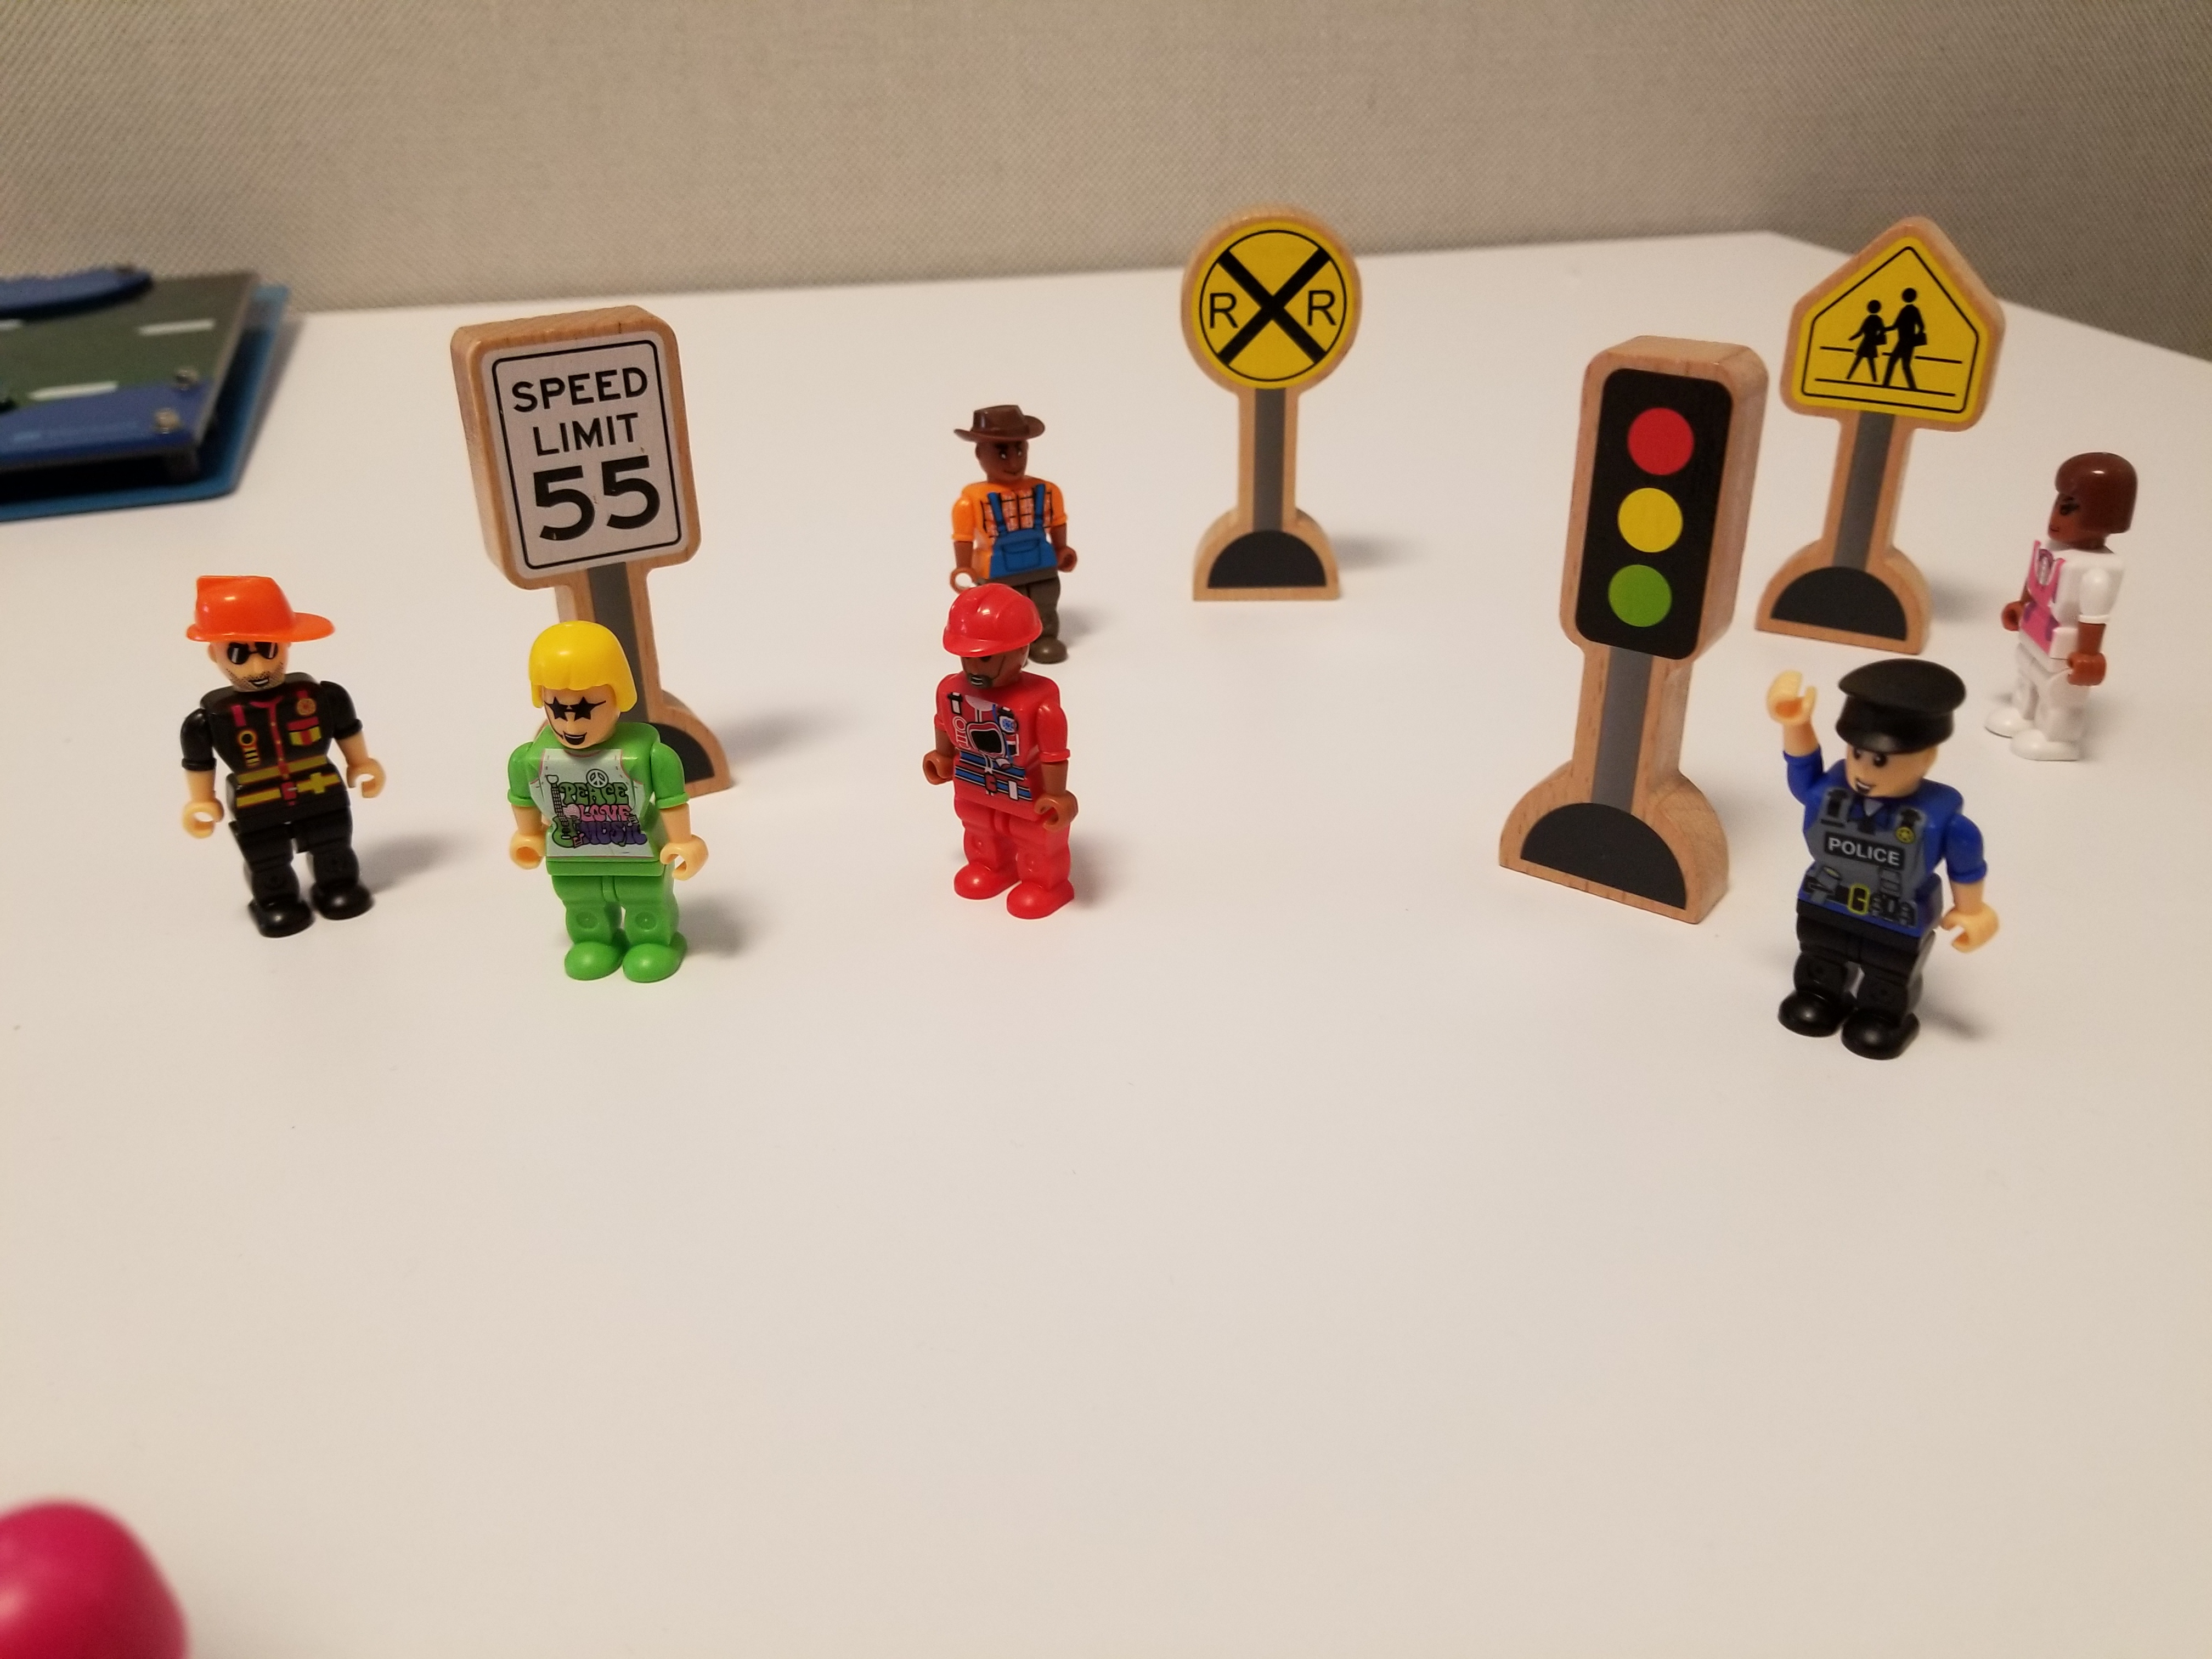Railroad Crossing: (1125, 170, 1410, 692)
Speed limit 55: (403, 295, 747, 583)
Stop: (1730, 172, 2029, 637)
Traffic Light: (1528, 308, 1792, 978)
person: (1757, 629, 2011, 1127), (471, 600, 736, 1065), (157, 537, 411, 969), (890, 585, 1120, 967), (1996, 422, 2167, 804), (907, 372, 1098, 583)
